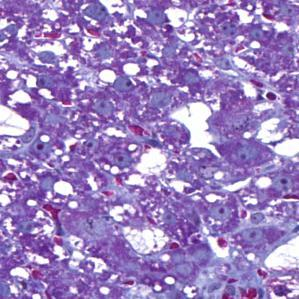ballooning: (120, 224, 170, 256)
